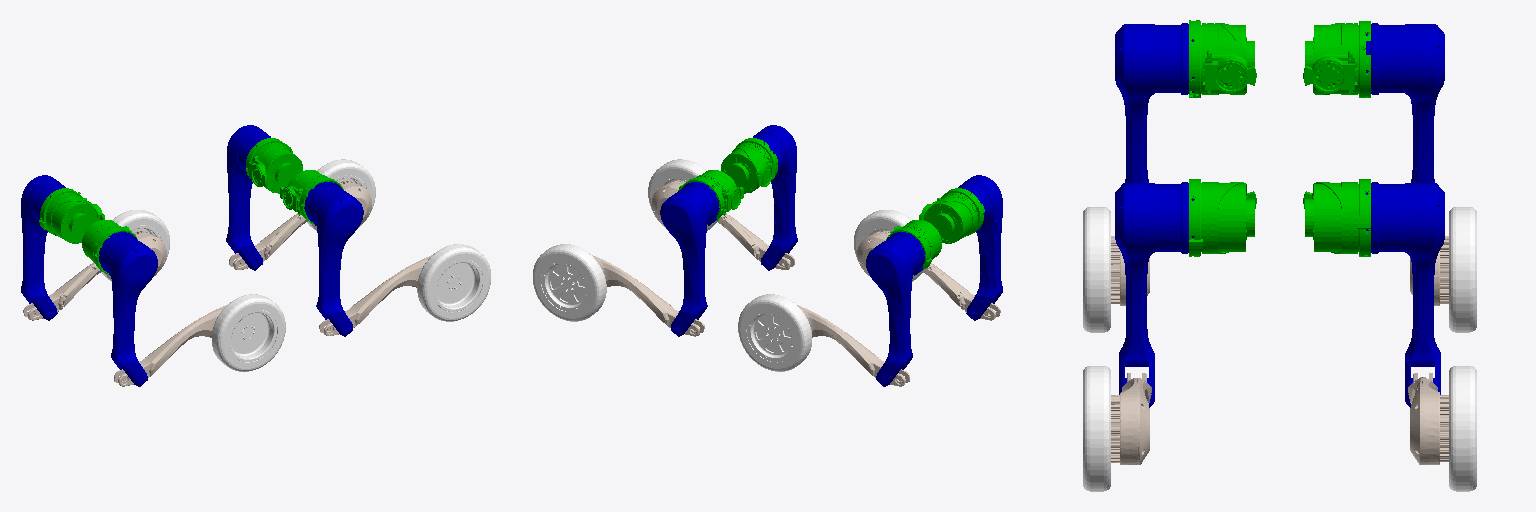
The robot description file, URDF, robot "dynawheel":
<?xml version="1.0" encoding="utf-8"?>
<robot name="dynawheel">
  <material name="black">
    <color rgba="0.0 0.0 0.0 1.0"/>
  </material>
  <material name="blue">
    <color rgba="0.0 0.0 0.8 1.0"/>
  </material>
  <material name="green">
    <color rgba="0.0 0.8 0.0 1.0"/>
  </material>
  <material name="grey">
    <color rgba="0.2 0.2 0.2 1.0"/>
  </material>
  <material name="silver">
    <color rgba="0.913725490196 0.913725490196 0.847058823529 1.0"/>
  </material>
  <material name="orange">
    <color rgba="0.12 0.15 0.2 1.0"/>
  </material>
  <material name="brown">
    <color rgba="0.870588235294 0.811764705882 0.764705882353 1.0"/>
  </material>
  <material name="red">
    <color rgba="0.8 0.0 0.0 1.0"/>
  </material>
  <material name="white">
    <color rgba="1.0 1.0 1.0 1.0"/>
  </material>
  <!-- @@@@@@@@@@@@@@@@@@@@@@@@@@@@@@@@@@@@@@@@@@@@@@@@@@@@@@@ -->
  <link name="Base">
    <inertial>
      <origin xyz="0.0 -0.0 -0.0" rpy="0 0 0" />
      <mass value="35.0" />
      <!-- <inertia ixx="0.236918" ixy="-0.003064" ixz="-0.034650" iyy="1.477981" iyz="-0.003225" izz="1.527714" /> -->
      <inertia ixx="0.236918" ixy="0.0" ixz="0.0" iyy="1.477981" iyz="0.0" izz="1.527714" />
    </inertial>
    <visual>
      <origin xyz="0 0 0" rpy="0 0 0" />
      <geometry>
        <mesh filename="package://robot_assets/dynawheel/meshes/base.STL" />
      </geometry>
      <material name="red"/>
    </visual>
    <visual>
      <origin xyz="0.47403 0 0.01878" rpy="0 0 0" />
      <geometry>
        <mesh filename="package://../meshes/lidar.STL" />
      </geometry>
      <material name="red"/>
    </visual>
    <collision>
      <origin xyz="0 0 0" rpy="0 0 0" />
      <geometry>
        <box size="0.41 0.33 0.20"/>
      </geometry>
    </collision>
    <collision>
      <origin xyz="0.185 0.105 -0.13" rpy="0 0 0" />
      <geometry>
        <box size="0.025 0.025 0.06"/>
      </geometry>
    </collision>
    <collision>
      <origin xyz="0.185 -0.105 -0.13" rpy="0 0 0" />
      <geometry>
        <box size="0.025 0.025 0.06"/>
      </geometry>
    </collision>
    <collision>
      <origin xyz="-0.185 0.105 -0.13" rpy="0 0 0" />
      <geometry>
        <box size="0.025 0.025 0.06"/>
      </geometry>
    </collision>
    <collision>
      <origin xyz="-0.185 -0.105 -0.13" rpy="0 0 0" />
      <geometry>
        <box size="0.025 0.025 0.06"/>
      </geometry>
    </collision>
    <collision>
      <origin xyz="0.456 0 0.024" rpy="0 0 0" />
      <geometry>
        <box size="0.066 0.14 0.17"/>
      </geometry>
    </collision>
  </link>
  <!-- @@@@@@@@@@@@@@@@@@@@@@@@@@@@@@@@@@@@@@@@@@@@@@@@@@@@@@@ -->
  <joint name="LF_HAA" type="revolute">
    <origin xyz="0.346 0.09 0" rpy="0 0 0" />
    <parent link="Base" />
    <child link="LF_hip" />
    <axis xyz="1 0 0" />
    <limit lower="-0.50" upper="0.50" effort="200" velocity="10" />
  </joint>
  <link name="LF_hip">
    <inertial>
      <origin xyz="-0.0037293 -0.0028271 -2.3984E-05" rpy="0 0 0" />
      <mass value="4.0" />
      <inertia ixx="0.005458" ixy="0.0" ixz="0" iyy="0.008605" iyz="0" izz="0.005981" />
    </inertial>
    <visual>
      <origin xyz="0 0 0" rpy="0 0 0" />
      <geometry>
        <mesh filename="package://robot_assets/dynawheel/meshes/lf_hip.STL" />
      </geometry>
      <material name="green"/>
    </visual>
    <!-- <collision>
      <origin xyz="0.0 0.0 0.0" rpy="1.57 0 0" />
      <geometry>
        <cylinder radius="0.065" length="0.064"/>
      </geometry>
    </collision> -->
  </link>
  <!-- @@@@@@@@@@@@@@@@@@@@@@@@@@@@@@@@@@@@@@@@@@@@@@@@@@@@@@@ -->
  <joint name="LF_HFE" type="revolute">
    <origin xyz="0.0 0.1733 0.0" rpy="0 0 0" />
    <parent link="LF_hip" />
    <child link="LF_thigh" />
    <axis xyz="0 1 0" />
    <limit lower="-1.43" upper="4.58" effort="200" velocity="10" />
  </joint>
  <link name="LF_thigh">
    <inertial>
      <origin xyz="-0.003963 -0.044529 -0.029278" rpy="0 0 0" />
      <mass value="5.5" />
      <inertia ixx="0.068416" ixy="0.000018" ixz="-0.003286" iyy="0.060125" iyz="0.000136" izz="0.017696" />
    </inertial>
    <visual>
      <origin xyz="0 0 0" rpy="0 0 0" />
      <geometry>
        <mesh filename="package://robot_assets/dynawheel/meshes/lf_thigh.STL" />
      </geometry>
      <material name="blue"/>
    </visual>
    <collision>
      <origin xyz="0.0 -0.0 0.0" rpy="1.57 0 0" />
      <geometry>
        <cylinder radius="0.065" length="0.07"/>
      </geometry>
    </collision>
    <collision>
      <origin xyz="-0.035 0.0 -0.144" rpy="0 0 0" />
      <geometry>
        <box size="0.056 0.07 0.31"/>
      </geometry>
    </collision>
    <!-- <collision>
      <origin xyz="-0.016 0.0 -0.325" rpy="0 -0.55 0" />
      <geometry>
        <box size="0.05 0.03 0.12"/>
      </geometry>
    </collision> -->
  </link>
  <!-- @@@@@@@@@@@@@@@@@@@@@@@@@@@@@@@@@@@@@@@@@@@@@@@@@@@@@@@ -->
  <joint name="LF_KFE" type="revolute">
    <origin xyz="0 0.0 -0.350" rpy="0 0 0" />
    <parent link="LF_thigh" />
    <child link="LF_calf" />
    <axis xyz="0 1 0" />
    <limit lower="-2.74" upper="-0.87" effort="200" velocity="10" />
  </joint>
  <link name="LF_calf">
    <inertial>
      <origin xyz="-0.006279 0.013363 -0.251104" rpy="0 0 0" />
      <mass value="4.0" />
      <inertia ixx="0.335338" ixy="0.000054" ixz="0.005346" iyy="0.337205" iyz="0.018379" izz="0.007327" />
    </inertial>
    <visual>
      <origin xyz="0 0 0" rpy="0 0 0" />
      <geometry>
        <mesh filename="package://robot_assets/dynawheel/meshes/lf_calf.STL" />
      </geometry>
      <material name="brown"/>
    </visual>
    <collision>
      <origin xyz="0.002 0.0 0.008" rpy="0 0.04 0" />
      <geometry>
        <box size="0.04 0.03 0.10"/>
      </geometry>
    </collision>
    <collision>
      <origin xyz="0.025 0.0 -0.12" rpy="0 -0.29 0" />
      <geometry>
        <box size="0.032 0.03 0.20"/>
      </geometry>
    </collision>
    <collision>
      <origin xyz="0.054 0.0 -0.285" rpy="0 0.01 0" />
      <geometry>
        <box size="0.028 0.03 0.15"/>
      </geometry>
    </collision>
    <collision>
      <origin xyz="0.0 0.0 -0.350" rpy="1.57 0 0" />
      <geometry>
        <cylinder radius="0.068" length="0.03"/>
      </geometry>
    </collision>
  </link>
  <!-- @@@@@@@@@@@@@@@@@@@@@@@@@@@@@@@@@@@@@@@@@@@@@@@@@@@@@@@ -->
  <joint name="LF_WHEEL_MOTOR" type="revolute" dont_collapse="true">
    <origin xyz="0.0 0.0735 -0.35" rpy="0 0 0" />
    <parent link="LF_calf" />
    <child link="LF_wheel" />
    <axis xyz="0 1 0" />
    <limit lower="-99999" upper="99999" effort="75" velocity="32.0" />
  </joint>
  <link name="LF_wheel">
    <inertial>
      <origin xyz="0 -0.000777 0" rpy="0 0 0" />
      <mass value="1.722" />
      <inertia ixx="0.00781" ixy="0" ixz="0" iyy="0.014943" iyz="0" izz="0.007809"/>
    </inertial>
    <visual>
      <origin xyz="0 0 0" rpy="0 0 0" />
      <geometry>
        <mesh filename="package://robot_assets/dynawheel/meshes/lf_wheel.STL" />
      </geometry>
      <material name="white"/>
    </visual>
    <collision>
      <origin xyz="0 0 0" rpy="1.57 0 0" />
      <geometry>
        <cylinder radius="0.116" length="0.03"/>
      </geometry>
      <material name="white"/>
    </collision>
  </link>
  <!-- @@@@@@@@@@@@@@@@@@@@@@@@@@@@@@@@@@@@@@@@@@@@@@@@@@@@@@@ -->
  <joint name="LH_HAA" type="revolute">
    <origin xyz="-0.346 0.09 0" rpy="0 0 0" />
    <parent link="Base" />
    <child link="LH_hip" />
    <axis xyz="1 0 0" />
    <limit lower="-0.50" upper="0.50" effort="200" velocity="10" />
  </joint>
  <link name="LH_hip">
    <inertial>
      <origin xyz="0.0037293 -0.0028271 -2.3984E-05" rpy="0 0 0" />
      <mass value="4.0" />
      <inertia ixx="0.005458" ixy="0.0" ixz="0" iyy="0.008605" iyz="0" izz="0.005981" />
    </inertial>
    <visual>
      <origin xyz="0 0 0" rpy="0 3.14 0" />
      <geometry>
        <mesh filename="package://robot_assets/dynawheel/meshes/lf_hip.STL" />
      </geometry>
      <material name="green"/>
    </visual>
    <!-- <collision>
      <origin xyz="0.0 0.0 0.0" rpy="1.57 0 0" />
      <geometry>
        <cylinder radius="0.065" length="0.064"/>
      </geometry>
    </collision> -->
  </link>
  <!-- @@@@@@@@@@@@@@@@@@@@@@@@@@@@@@@@@@@@@@@@@@@@@@@@@@@@@@@ -->
  <joint name="LH_HFE" type="revolute">
    <origin xyz="0.0 0.1733 0.0" rpy="0 0 0" />
    <parent link="LH_hip" />
    <child link="LH_thigh" />
    <axis xyz="0 1 0" />
    <limit lower="-1.43" upper="4.58" effort="200" velocity="10" />
  </joint>
  <link name="LH_thigh">
    <inertial>
      <origin xyz="-0.003963 -0.044529 -0.029278" rpy="0 0 0" />
      <mass value="5.5" />
      <inertia ixx="0.068416" ixy="0.000018" ixz="-0.003286" iyy="0.060125" iyz="0.000136" izz="0.017696" />
    </inertial>
    <visual>
      <origin xyz="0 0 0" rpy="0 0 0" />
      <geometry>
        <mesh filename="package://robot_assets/dynawheel/meshes/lf_thigh.STL" />
      </geometry>
      <material name="blue"/>
    </visual>
    <collision>
      <origin xyz="0.0 -0.0 0.0" rpy="1.57 0 0" />
      <geometry>
        <cylinder radius="0.065" length="0.07"/>
      </geometry>
    </collision>
    <collision>
      <origin xyz="-0.035 0.0 -0.144" rpy="0 0 0" />
      <geometry>
        <box size="0.056 0.07 0.31"/>
      </geometry>
    </collision>
    <!-- <collision>
      <origin xyz="-0.016 0.0 -0.325" rpy="0 -0.55 0" />
      <geometry>
        <box size="0.05 0.03 0.12"/>
      </geometry>
    </collision> -->
  </link>
  <!-- @@@@@@@@@@@@@@@@@@@@@@@@@@@@@@@@@@@@@@@@@@@@@@@@@@@@@@@ -->
  <joint name="LH_KFE" type="revolute">
    <origin xyz="0 0.0 -0.350" rpy="0 0 0" />
    <parent link="LH_thigh" />
    <child link="LH_calf" />
    <axis xyz="0 1 0" />
    <limit lower="-2.74" upper="-0.87" effort="200" velocity="10" />
  </joint>
  <link name="LH_calf">
    <inertial>
      <origin xyz="-0.006279 0.013363 -0.251104" rpy="0 0 0" />
      <mass value="4.0" />
      <inertia ixx="0.335338" ixy="0.000054" ixz="0.005346" iyy="0.337205" iyz="0.018379" izz="0.007327" />
    </inertial>
    <visual>
      <origin xyz="0 0 0" rpy="0 0 0" />
      <geometry>
        <mesh filename="package://robot_assets/dynawheel/meshes/lf_calf.STL" />
      </geometry>
      <material name="brown"/>
    </visual>
    <collision>
      <origin xyz="0.002 0.0 0.008" rpy="0 0.04 0" />
      <geometry>
        <box size="0.04 0.03 0.10"/>
      </geometry>
    </collision>
    <collision>
      <origin xyz="0.025 0.0 -0.12" rpy="0 -0.29 0" />
      <geometry>
        <box size="0.032 0.03 0.20"/>
      </geometry>
    </collision>
    <collision>
      <origin xyz="0.054 0.0 -0.285" rpy="0 0.01 0" />
      <geometry>
        <box size="0.028 0.03 0.15"/>
      </geometry>
    </collision>
    <collision>
      <origin xyz="0.0 0.0 -0.350" rpy="1.57 0 0" />
      <geometry>
        <cylinder radius="0.068" length="0.03"/>
      </geometry>
    </collision>
  </link>
  <!-- @@@@@@@@@@@@@@@@@@@@@@@@@@@@@@@@@@@@@@@@@@@@@@@@@@@@@@@ -->
  <joint name="LH_WHEEL_MOTOR" type="revolute" dont_collapse="true">
    <origin xyz="0.0 0.0735 -0.35" rpy="0 0 0" />
    <parent link="LH_calf" />
    <child link="LH_wheel" />
    <axis xyz="0 1 0" />
    <limit lower="-99999" upper="99999" effort="75" velocity="32.0" />
  </joint>
  <link name="LH_wheel">
    <inertial>
      <origin xyz="0 -0.000777 0" rpy="0 0 0" />
      <mass value="1.722" />
      <inertia ixx="0.00781" ixy="0" ixz="0" iyy="0.014943" iyz="0" izz="0.007809"/>
    </inertial>
    <visual>
      <origin xyz="0 0 0" rpy="0 0 0" />
      <geometry>
        <mesh filename="package://robot_assets/dynawheel/meshes/lf_wheel.STL" />
      </geometry>
      <material name="white"/>
    </visual>
    <collision>
      <origin xyz="0 0 0" rpy="1.57 0 0" />
      <geometry>
        <cylinder radius="0.116" length="0.03"/>
      </geometry>
      <material name="white"/>
    </collision>
  </link>
  <!-- @@@@@@@@@@@@@@@@@@@@@@@@@@@@@@@@@@@@@@@@@@@@@@@@@@@@@@@ -->
  <joint name="RF_HAA" type="revolute">
    <origin xyz="0.346 -0.09 0" rpy="0 0 0" />
    <parent link="Base" />
    <child link="RF_hip" />
    <axis xyz="1 0 0" />
    <limit lower="-0.50" upper="0.50" effort="200" velocity="10" />
  </joint>
  <link name="RF_hip">
    <inertial>
      <origin xyz="-0.0037293 0.0028271 -2.3984E-05" rpy="0 0 0" />
      <mass value="4.0" />
      <inertia ixx="0.005458" ixy="0.0" ixz="0" iyy="0.008605" iyz="0" izz="0.005981" />
    </inertial>
    <visual>
      <origin xyz="0 0 0" rpy="3.14 0 0" />
      <geometry>
        <mesh filename="package://robot_assets/dynawheel/meshes/lf_hip.STL" />
      </geometry>
      <material name="green"/>
    </visual>
    <!-- <collision>
      <origin xyz="0.0 0.0 0.0" rpy="1.57 0 0" />
      <geometry>
        <cylinder radius="0.065" length="0.064"/>
      </geometry>
    </collision> -->
  </link>
  <!-- @@@@@@@@@@@@@@@@@@@@@@@@@@@@@@@@@@@@@@@@@@@@@@@@@@@@@@@ -->
  <joint name="RF_HFE" type="revolute">
    <origin xyz="0.0 -0.1733 0.0" rpy="0 0 0" />
    <parent link="RF_hip" />
    <child link="RF_thigh" />
    <axis xyz="0 1 0" />
    <limit lower="-1.43" upper="4.58" effort="200" velocity="10" />
  </joint>
  <link name="RF_thigh">
    <inertial>
      <origin xyz="-0.003963 0.044529 -0.029278" rpy="0 0 0" />
      <mass value="5.5" />
      <inertia ixx="0.068416" ixy="-0.000018" ixz="-0.003286" iyy="0.060125" iyz="-0.000136" izz="0.017696" />
    </inertial>
    <visual>
      <origin xyz="0 0 0" rpy="0 0 0" />
      <geometry>
        <mesh filename="package://robot_assets/dynawheel/meshes/rf_thigh.STL" />
      </geometry>
      <material name="blue"/>
    </visual>
    <collision>
      <origin xyz="0.0 -0.0 0.0" rpy="1.57 0 0" />
      <geometry>
        <cylinder radius="0.065" length="0.07"/>
      </geometry>
    </collision>
    <collision>
      <origin xyz="-0.035 0.0 -0.144" rpy="0 0 0" />
      <geometry>
        <box size="0.056 0.07 0.31"/>
      </geometry>
    </collision>
    <!-- <collision>
      <origin xyz="-0.016 0.0 -0.325" rpy="0 -0.55 0" />
      <geometry>
        <box size="0.05 0.03 0.12"/>
      </geometry>
    </collision> -->
  </link>
  <!-- @@@@@@@@@@@@@@@@@@@@@@@@@@@@@@@@@@@@@@@@@@@@@@@@@@@@@@@ -->
  <joint name="RF_KFE" type="revolute">
    <origin xyz="0 0.0 -0.350" rpy="0 0 0" />
    <parent link="RF_thigh" />
    <child link="RF_calf" />
    <axis xyz="0 1 0" />
    <limit lower="-2.74" upper="-0.87" effort="200" velocity="10" />
  </joint>
  <link name="RF_calf">
    <inertial>
      <origin xyz="0.006279 -0.013363 -0.251104" rpy="0 0 0" />
      <mass value="4.0" />
      <inertia ixx="0.335338" ixy="-0.000054" ixz="0.005346" iyy="0.337205" iyz="-0.018379" izz="0.007327" />
    </inertial>
    <visual>
      <origin xyz="0 0 0" rpy="0 3.14 3.14" />
      <geometry>
        <mesh filename="package://robot_assets/dynawheel/meshes/rf_calf.STL" />
      </geometry>
      <material name="brown"/>
    </visual>
    <collision>
      <origin xyz="0.002 0.0 0.008" rpy="0 0.04 0" />
      <geometry>
        <box size="0.04 0.03 0.10"/>
      </geometry>
    </collision>
    <collision>
      <origin xyz="0.025 0.0 -0.12" rpy="0 -0.29 0" />
      <geometry>
        <box size="0.032 0.03 0.20"/>
      </geometry>
    </collision>
    <collision>
      <origin xyz="0.054 0.0 -0.285" rpy="0 0.01 0" />
      <geometry>
        <box size="0.028 0.03 0.15"/>
      </geometry>
    </collision>
    <collision>
      <origin xyz="0.0 0.0 -0.350" rpy="1.57 0 0" />
      <geometry>
        <cylinder radius="0.068" length="0.03"/>
      </geometry>
    </collision>
  </link>
  <!-- @@@@@@@@@@@@@@@@@@@@@@@@@@@@@@@@@@@@@@@@@@@@@@@@@@@@@@@ -->
  <joint name="RF_WHEEL_MOTOR" type="revolute" dont_collapse="true">
    <origin xyz="0.0 -0.0735 -0.35" rpy="0 0 0" />
    <parent link="RF_calf" />
    <child link="RF_wheel" />
    <axis xyz="0 1 0" />
    <limit lower="-99999" upper="99999" effort="75" velocity="32.0" />
  </joint>
  <link name="RF_wheel">
    <inertial>
      <origin xyz="0 0.000777 0" rpy="0 0 0" />
      <mass value="1.722" />
      <inertia ixx="0.00781" ixy="0" ixz="0" iyy="0.014943" iyz="0" izz="0.007809"/>
    </inertial>
    <visual>
      <origin xyz="0 0 0" rpy="0 0 0" />
      <geometry>
        <mesh filename="package://robot_assets/dynawheel/meshes/rf_wheel.STL" />
      </geometry>
      <material name="white"/>
    </visual>
    <collision>
      <origin xyz="0 0 0" rpy="1.57 0 0" />
      <geometry>
        <cylinder radius="0.116" length="0.03"/>
      </geometry>
      <material name="white"/>
    </collision>
  </link>
  <!-- @@@@@@@@@@@@@@@@@@@@@@@@@@@@@@@@@@@@@@@@@@@@@@@@@@@@@@@ -->
  <joint name="RH_HAA" type="revolute">
    <origin xyz="-0.346 -0.09 0" rpy="0 0 0" />
    <parent link="Base" />
    <child link="RH_hip" />
    <axis xyz="1 0 0" />
    <limit lower="-0.50" upper="0.50" effort="200" velocity="10" />
  </joint>
  <link name="RH_hip">
    <inertial>
      <origin xyz="0.0037293 0.0028271 -2.3984E-05" rpy="0 0 0" />
      <mass value="4.0" />
      <inertia ixx="0.005458" ixy="0.0" ixz="0" iyy="0.008605" iyz="0" izz="0.005981" />
    </inertial>
    <visual>
      <origin xyz="0 0 0" rpy="0 0 3.14" />
      <geometry>
        <mesh filename="package://robot_assets/dynawheel/meshes/lf_hip.STL" />
      </geometry>
      <material name="green"/>
    </visual>
    <!-- <collision>
      <origin xyz="0.0 0.0 0.0" rpy="1.57 0 0" />
      <geometry>
        <cylinder radius="0.065" length="0.064"/>
      </geometry>
    </collision> -->
  </link>
  <!-- @@@@@@@@@@@@@@@@@@@@@@@@@@@@@@@@@@@@@@@@@@@@@@@@@@@@@@@ -->
  <joint name="RH_HFE" type="revolute">
    <origin xyz="0.0 -0.1733 0.0" rpy="0 0 0" />
    <parent link="RH_hip" />
    <child link="RH_thigh" />
    <axis xyz="0 1 0" />
    <limit lower="-1.43" upper="4.58" effort="200" velocity="10" />
  </joint>
  <link name="RH_thigh">
    <inertial>
      <origin xyz="-0.003963 0.044529 -0.029278" rpy="0 0 0" />
      <mass value="5.5" />
      <inertia ixx="0.068416" ixy="-0.000018" ixz="-0.003286" iyy="0.060125" iyz="-0.000136" izz="0.017696" />
    </inertial>
    <visual>
      <origin xyz="0 0 0" rpy="0 0 0" />
      <geometry>
        <mesh filename="package://robot_assets/dynawheel/meshes/rf_thigh.STL" />
      </geometry>
      <material name="blue"/>
    </visual>
    <collision>
      <origin xyz="0.0 -0.0 0.0" rpy="1.57 0 0" />
      <geometry>
        <cylinder radius="0.065" length="0.07"/>
      </geometry>
    </collision>
    <collision>
      <origin xyz="-0.035 0.0 -0.144" rpy="0 0 0" />
      <geometry>
        <box size="0.056 0.07 0.31"/>
      </geometry>
    </collision>
    <!-- <collision>
      <origin xyz="-0.016 0.0 -0.325" rpy="0 -0.55 0" />
      <geometry>
        <box size="0.05 0.03 0.12"/>
      </geometry>
    </collision> -->
  </link>
  <!-- @@@@@@@@@@@@@@@@@@@@@@@@@@@@@@@@@@@@@@@@@@@@@@@@@@@@@@@ -->
  <joint name="RH_KFE" type="revolute">
    <origin xyz="0 0.0 -0.350" rpy="0 0 0" />
    <parent link="RH_thigh" />
    <child link="RH_calf" />
    <axis xyz="0 1 0" />
    <limit lower="-2.74" upper="-0.87" effort="200" velocity="10" />
  </joint>
  <link name="RH_calf">
    <inertial>
      <origin xyz="0.006279 -0.013363 -0.251104" rpy="0 0 0" />
      <mass value="4.0" />
      <inertia ixx="0.335338" ixy="-0.000054" ixz="0.005346" iyy="0.337205" iyz="-0.018379" izz="0.007327" />
    </inertial>
    <visual>
      <origin xyz="0 0 0" rpy="0 3.14 3.14" />
      <geometry>
        <mesh filename="package://robot_assets/dynawheel/meshes/rf_calf.STL" />
      </geometry>
      <material name="brown"/>
    </visual>
    <collision>
      <origin xyz="0.002 0.0 0.008" rpy="0 0.04 0" />
      <geometry>
        <box size="0.04 0.03 0.10"/>
      </geometry>
    </collision>
    <collision>
      <origin xyz="0.025 0.0 -0.12" rpy="0 -0.29 0" />
      <geometry>
        <box size="0.032 0.03 0.20"/>
      </geometry>
    </collision>
    <collision>
      <origin xyz="0.054 0.0 -0.285" rpy="0 0.01 0" />
      <geometry>
        <box size="0.028 0.03 0.15"/>
      </geometry>
    </collision>
    <collision>
      <origin xyz="0.0 0.0 -0.350" rpy="1.57 0 0" />
      <geometry>
        <cylinder radius="0.068" length="0.03"/>
      </geometry>
    </collision>
  </link>
  <!-- @@@@@@@@@@@@@@@@@@@@@@@@@@@@@@@@@@@@@@@@@@@@@@@@@@@@@@@ -->
  <joint name="RH_WHEEL_MOTOR" type="revolute" dont_collapse="true">
    <origin xyz="0.0 -0.0735 -0.35" rpy="0 0 0" />
    <parent link="RH_calf" />
    <child link="RH_wheel" />
    <axis xyz="0 1 0" />
    <limit lower="-99999" upper="99999" effort="75" velocity="32.0" />
  </joint>
  <link name="RH_wheel">
    <inertial>
      <origin xyz="0 0.000777 0" rpy="0 0 0" />
      <mass value="1.722" />
      <inertia ixx="0.00781" ixy="0" ixz="0" iyy="0.014943" iyz="0" izz="0.007809"/>
    </inertial>
    <visual>
      <origin xyz="0 0 0" rpy="0 0 0" />
      <geometry>
        <mesh filename="package://robot_assets/dynawheel/meshes/rf_wheel.STL" />
      </geometry>
      <material name="white"/>
    </visual>
    <collision>
      <origin xyz="0 0 0" rpy="1.57 0 0" />
      <geometry>
        <cylinder radius="0.116" length="0.03"/>
      </geometry>
      <material name="white"/>
    </collision>
  </link>
  <!-- @@@@@@@@@@@@@@@@@@@@@@@@@@@@@@@@@@@@@@@@@@@@@@@@@@@@@@@ -->
</robot>

--- Render facts (derived) ---
3 views of the same robot in one strip: view 1: azimuth 30°, elevation 25°; view 2: azimuth 150°, elevation 25°; view 3: azimuth 270°, elevation 25° (orthographic).
Model dynawheel with 17 links and 16 joints (16 revolute), rooted at Base, posed all joints at 0 but 4 set to mid-range because 0 is outside their limits (LF_KFE = -1.8, LH_KFE = -1.8, RF_KFE = -1.8, RH_KFE = -1.8).
Visible links, largest first — view 1: RH_thigh, RF_thigh, RH_wheel, RF_wheel, LF_thigh, LH_thigh, LH_hip, LF_hip, RH_calf, RF_calf, LH_calf, LF_calf (+4 smaller); view 2: LH_thigh, LF_thigh, LH_wheel, LF_wheel, RF_thigh, RH_thigh, RH_hip, RF_hip, LF_calf, LH_calf, RH_calf, RF_calf (+4 smaller); view 3: RF_thigh, LF_thigh, LH_thigh, RH_thigh, LF_hip, RF_hip, RH_hip, LH_hip, LF_wheel, RF_wheel, LH_wheel, RH_wheel (+4 smaller).
Boxes of the visible links, bbox=[...] form: RH_thigh: bbox=[99, 232, 157, 386]; RF_thigh: bbox=[304, 182, 363, 336]; RH_wheel: bbox=[212, 294, 285, 371]; RF_wheel: bbox=[417, 244, 490, 321]; LF_thigh: bbox=[226, 125, 270, 270]; LH_thigh: bbox=[21, 175, 65, 320]; LH_hip: bbox=[39, 188, 104, 243]; LF_hip: bbox=[246, 138, 302, 193]; RH_calf: bbox=[114, 305, 226, 386]; RF_calf: bbox=[319, 255, 431, 335]; LH_calf: bbox=[23, 230, 166, 320]; LF_calf: bbox=[229, 180, 371, 269]; LH_thigh: bbox=[866, 232, 924, 386]; LF_thigh: bbox=[660, 182, 719, 336]; LH_wheel: bbox=[738, 294, 811, 371]; LF_wheel: bbox=[533, 244, 606, 321]; RF_thigh: bbox=[753, 125, 797, 270]; RH_thigh: bbox=[958, 175, 1002, 320]; RH_hip: bbox=[919, 188, 984, 243]; RF_hip: bbox=[721, 138, 777, 193]; LF_calf: bbox=[592, 255, 704, 336]; LH_calf: bbox=[797, 305, 909, 386]; RH_calf: bbox=[857, 231, 1000, 320]; RF_calf: bbox=[652, 180, 794, 269]; RF_thigh: bbox=[1115, 182, 1194, 407]; LF_thigh: bbox=[1366, 182, 1444, 407]; LH_thigh: bbox=[1366, 23, 1444, 182]; RH_thigh: bbox=[1115, 23, 1194, 182]; LF_hip: bbox=[1303, 179, 1370, 256]; RF_hip: bbox=[1189, 179, 1256, 256]; RH_hip: bbox=[1189, 20, 1256, 97]; LH_hip: bbox=[1303, 21, 1370, 97]; LF_wheel: bbox=[1449, 366, 1476, 491]; RF_wheel: bbox=[1083, 366, 1110, 491]; LH_wheel: bbox=[1449, 207, 1476, 332]; RH_wheel: bbox=[1083, 207, 1110, 332].
Bounding box of the posed robot: 1.22 × 0.7256 × 0.456 m (x, y, z).
Meshes: 8 distinct files referenced, 16 mesh visuals loaded (7 binary STL); not drawn: 1 (reference not matched to a file when rendering), 1 (reference in a form the renderer does not follow; not among the files counted above).
